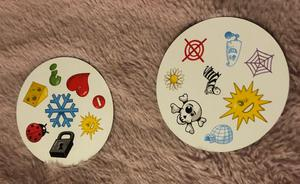cadenas: (47, 129, 77, 158)
cible: (178, 35, 209, 65)
coccinelle: (25, 121, 52, 144)
coeur: (65, 71, 92, 95)
fantome: (222, 30, 245, 70)
fleur: (161, 66, 186, 94)
flocon: (43, 92, 81, 130)
fromage: (22, 80, 48, 109)
igloo: (201, 123, 237, 146)
point_interrogation: (46, 63, 63, 88)
sens_interdit: (90, 93, 107, 110)
soleil: (219, 80, 273, 127), (78, 111, 105, 140)
tete_mort: (170, 94, 207, 134)
toile: (242, 46, 277, 80)
zebre: (198, 64, 223, 99)
